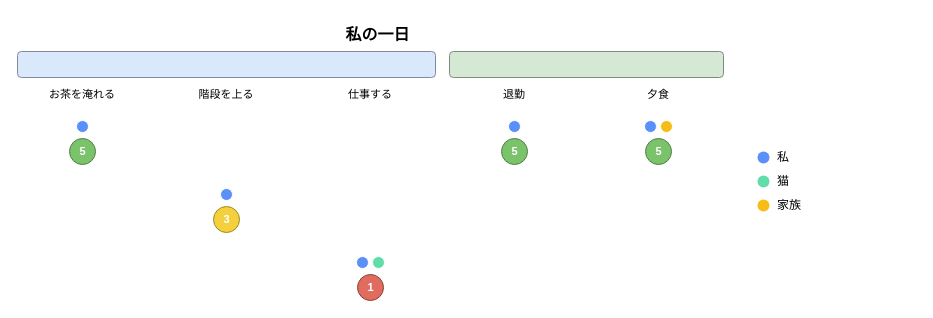
This 933x318 diagram has some shape labels left out. The shapes that lost their labels are listed below. From the top down, each one's box as (x1, y1, x2, y2) in pixels, then its label:
(16, 50, 436, 78): 出勤
(448, 50, 724, 78): 帰宅
